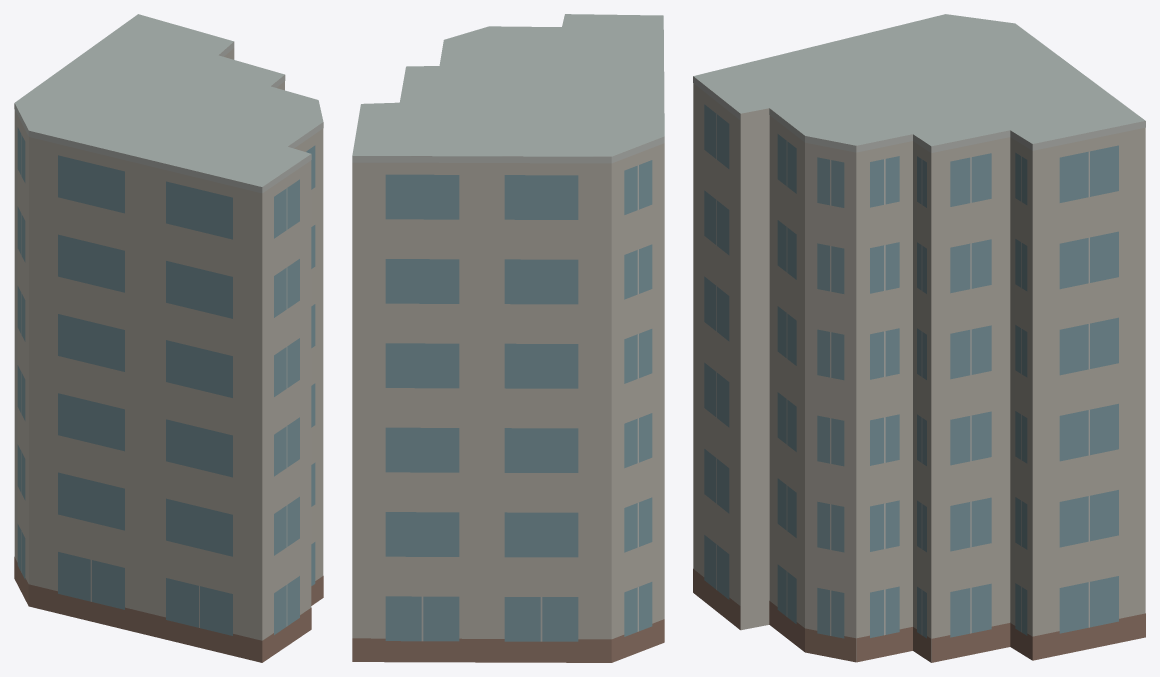
The model's file is survey-upis-32671493.glb.
The picture shows the model from 3 angles, left to right: view 1: azimuth 30°, elevation 25°; view 2: azimuth 150°, elevation 25°; view 3: azimuth 270°, elevation 25°; orthographic projection. The views are drawn at different scales.
Visible parts, largest first — view 1: survey-upis-32671493.tmp; view 2: survey-upis-32671493.tmp; view 3: survey-upis-32671493.tmp.
Part boxes in pixels (x1,y1,x2,y2): survey-upis-32671493.tmp: (14, 14, 323, 662); survey-upis-32671493.tmp: (352, 14, 664, 662); survey-upis-32671493.tmp: (693, 14, 1145, 662).
Size of the model in its own units: 10.17 by 18.5 by 14.7.
